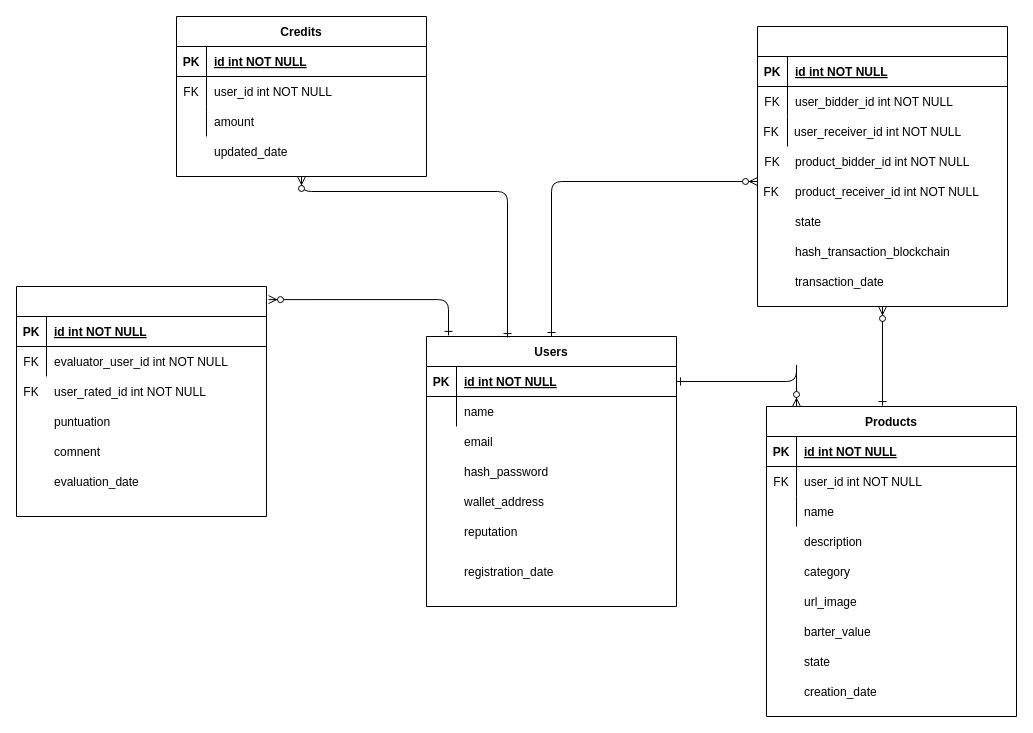
Some shapes in this 1033 by 733 pixel diagram are drawn without their labels. The shapes that lost their labels are listed below. From the top down, each one's box as (x1, y1, x2, y2) in pixels, then its label:
(756, 26, 1008, 306): Transactions
(16, 286, 266, 516): Evaluations
